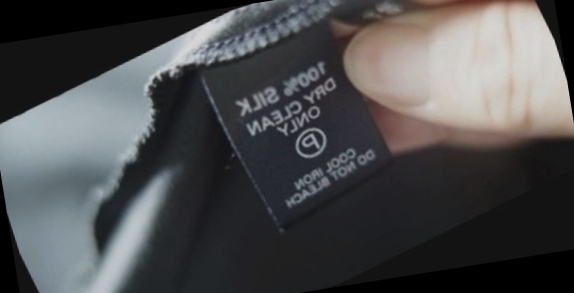dry_clean_any_solvent_except_trichloroethylene: (285, 120, 334, 166)
